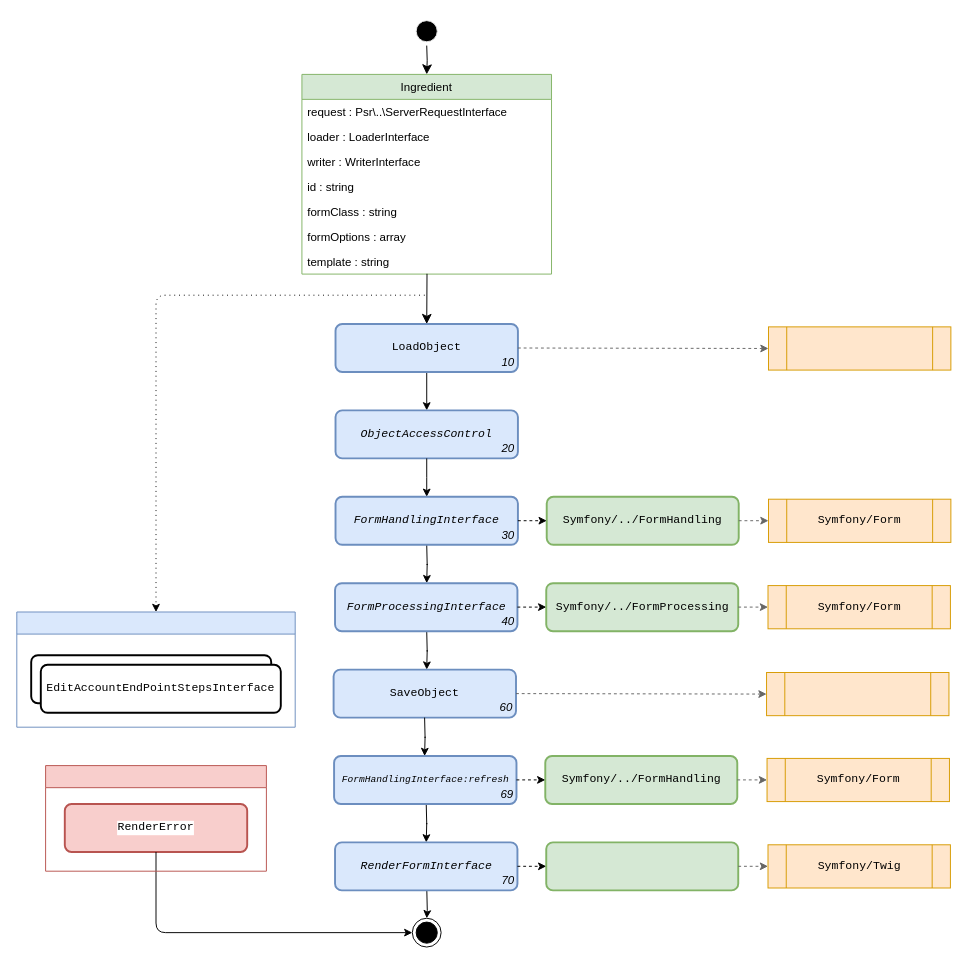
Image size: 968x964. Some labels were removed from this diagram. Here are the shapes that lost their labels. From the top down, the centre of each, then its label:
At (859,348): "AccountLoader".
At (155,669): "To extends, add step in".
At (857,694): "AccountWriter".
At (155,818): "On Error".
At (642,866): "Symfony/../RenderForm".
